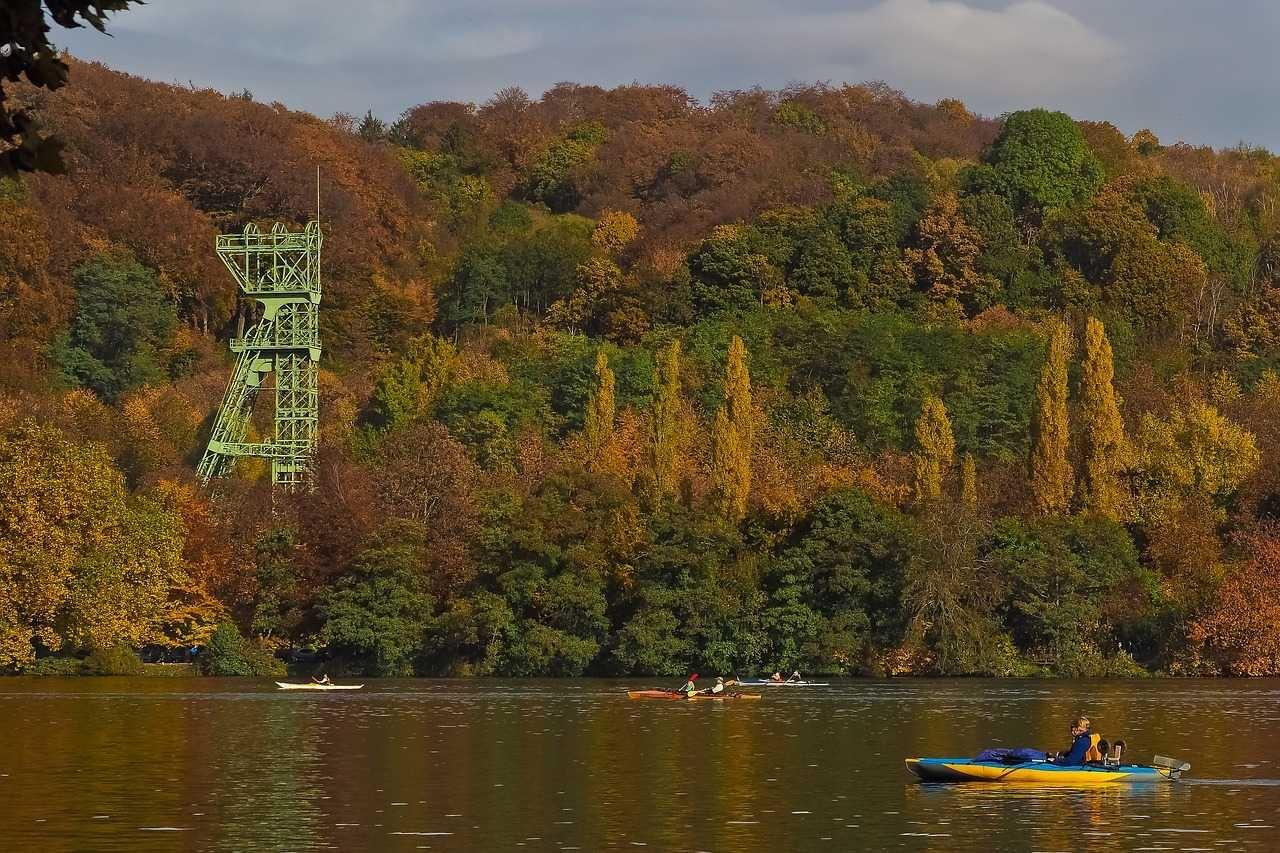kayak: (905, 748, 1183, 788), (273, 675, 366, 692)
